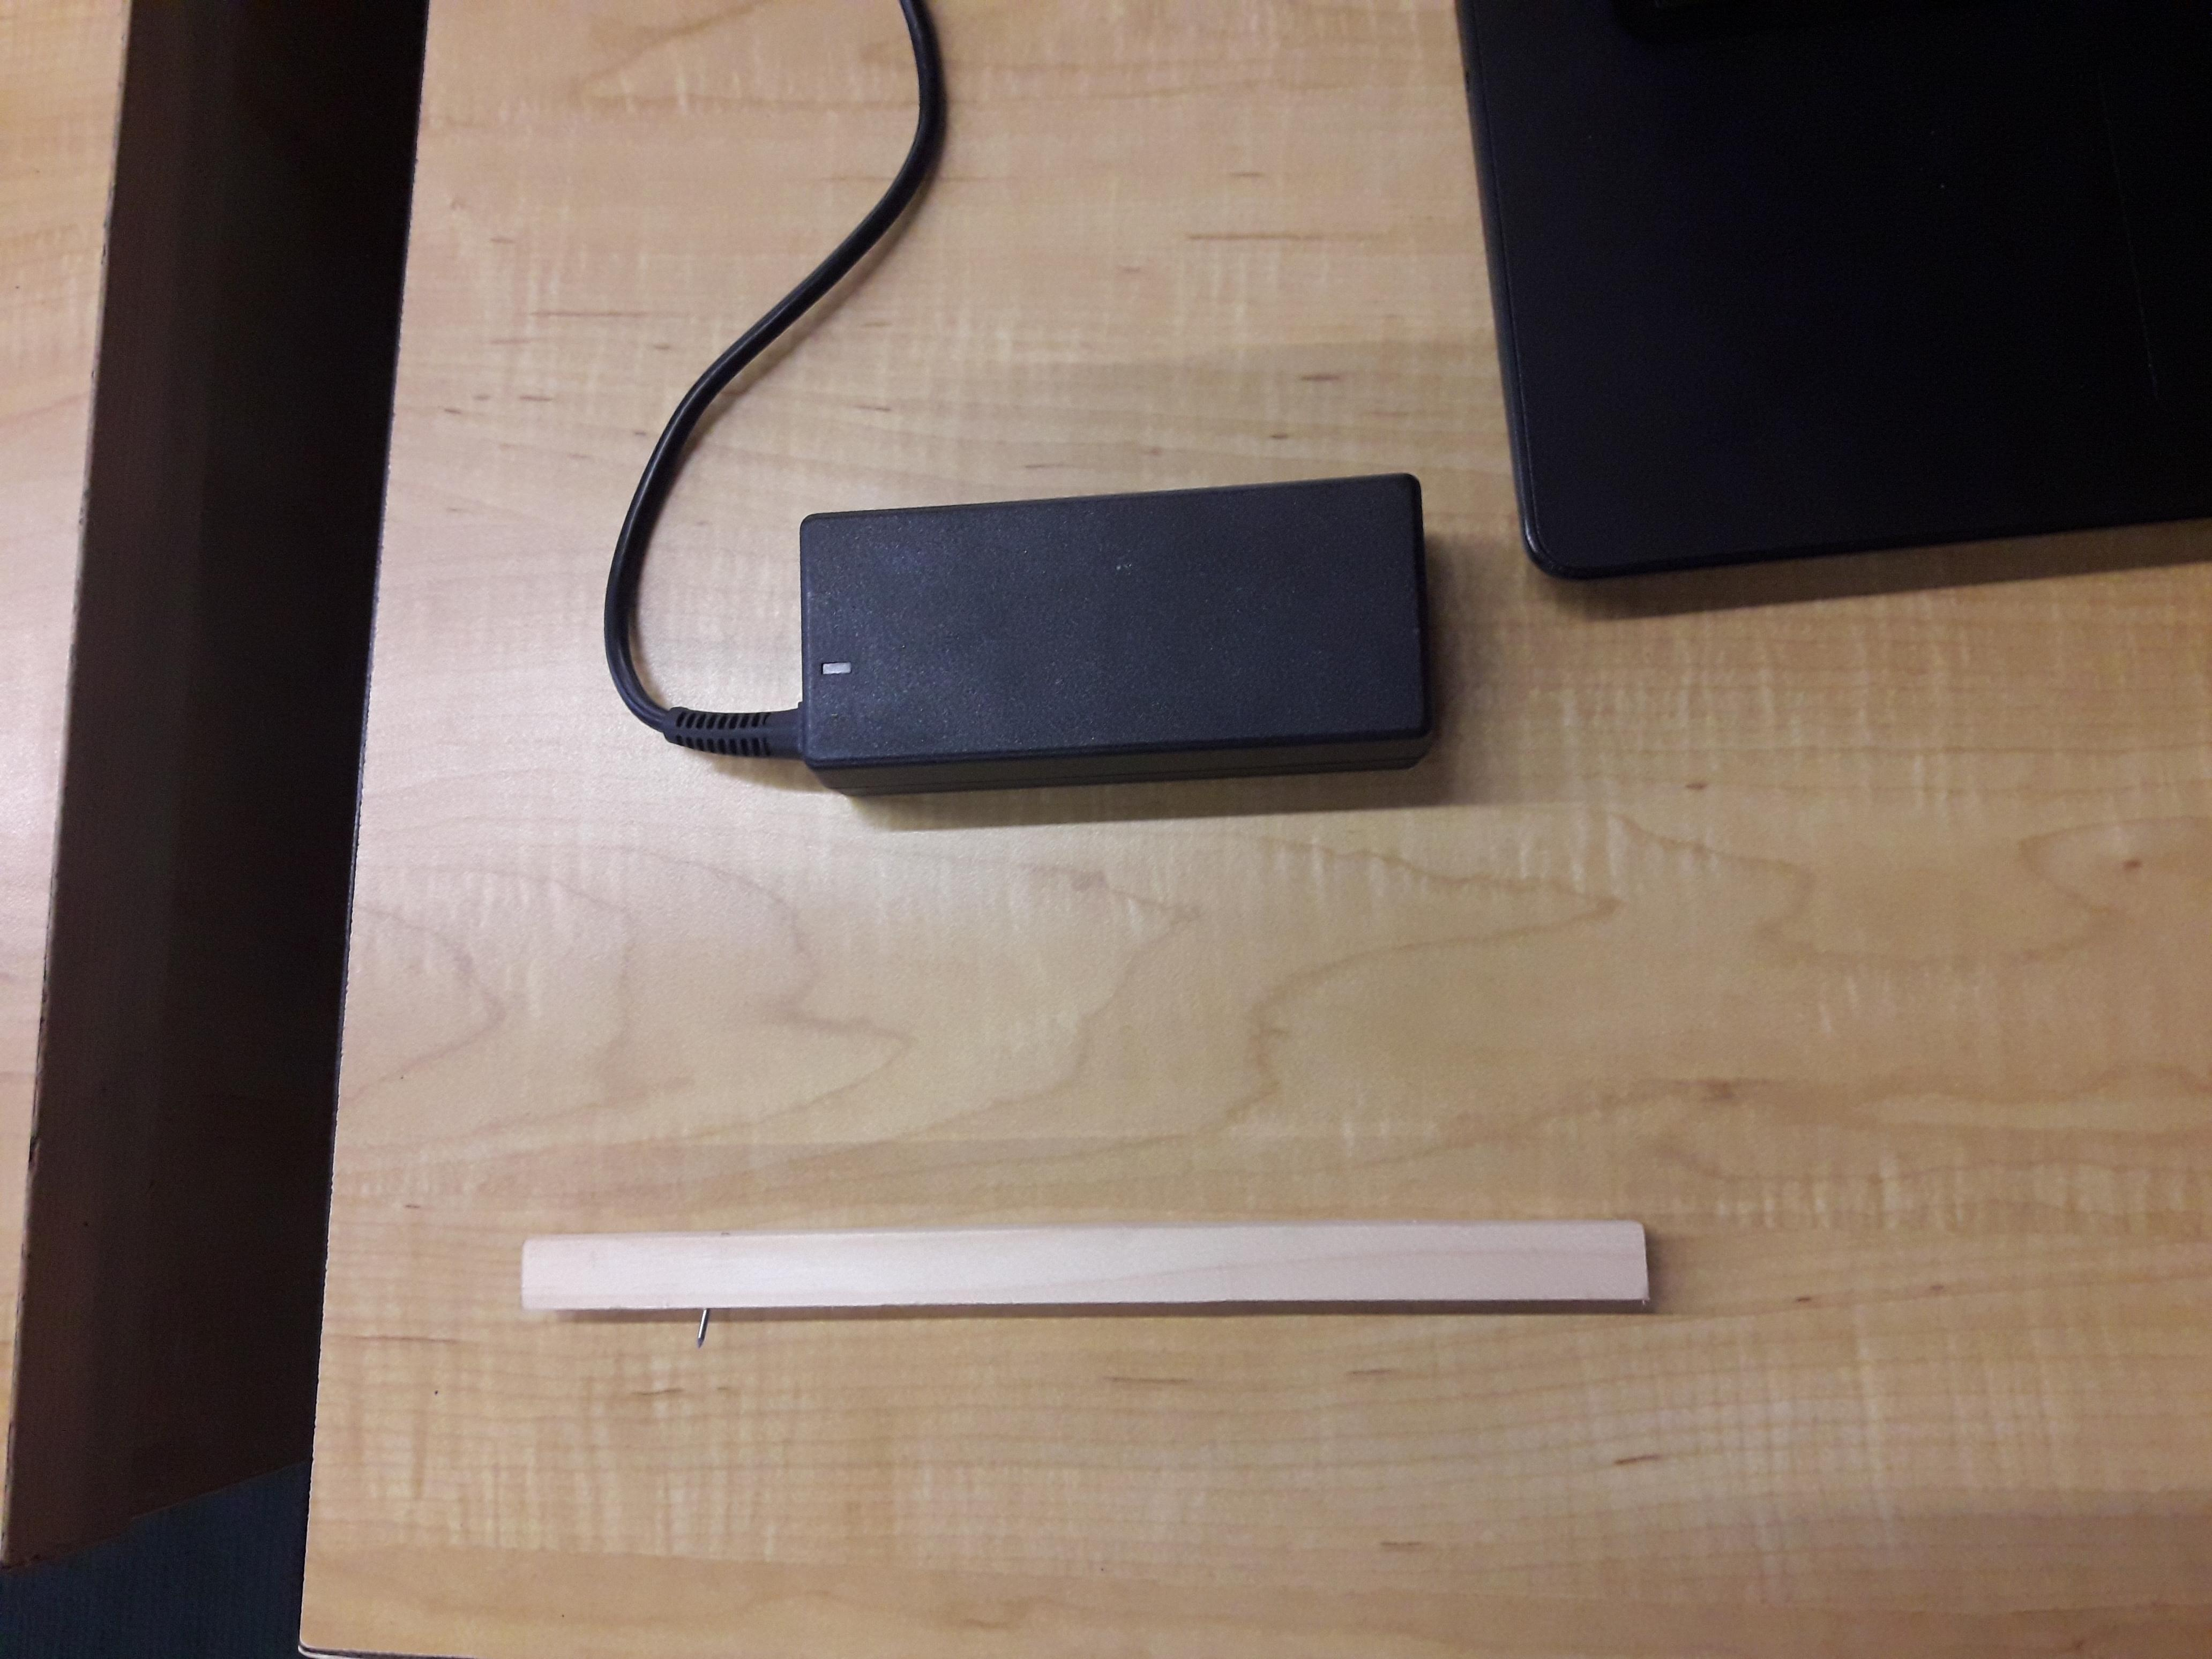object: (801, 474, 1426, 763)
reference: (519, 1220, 1651, 1303)
